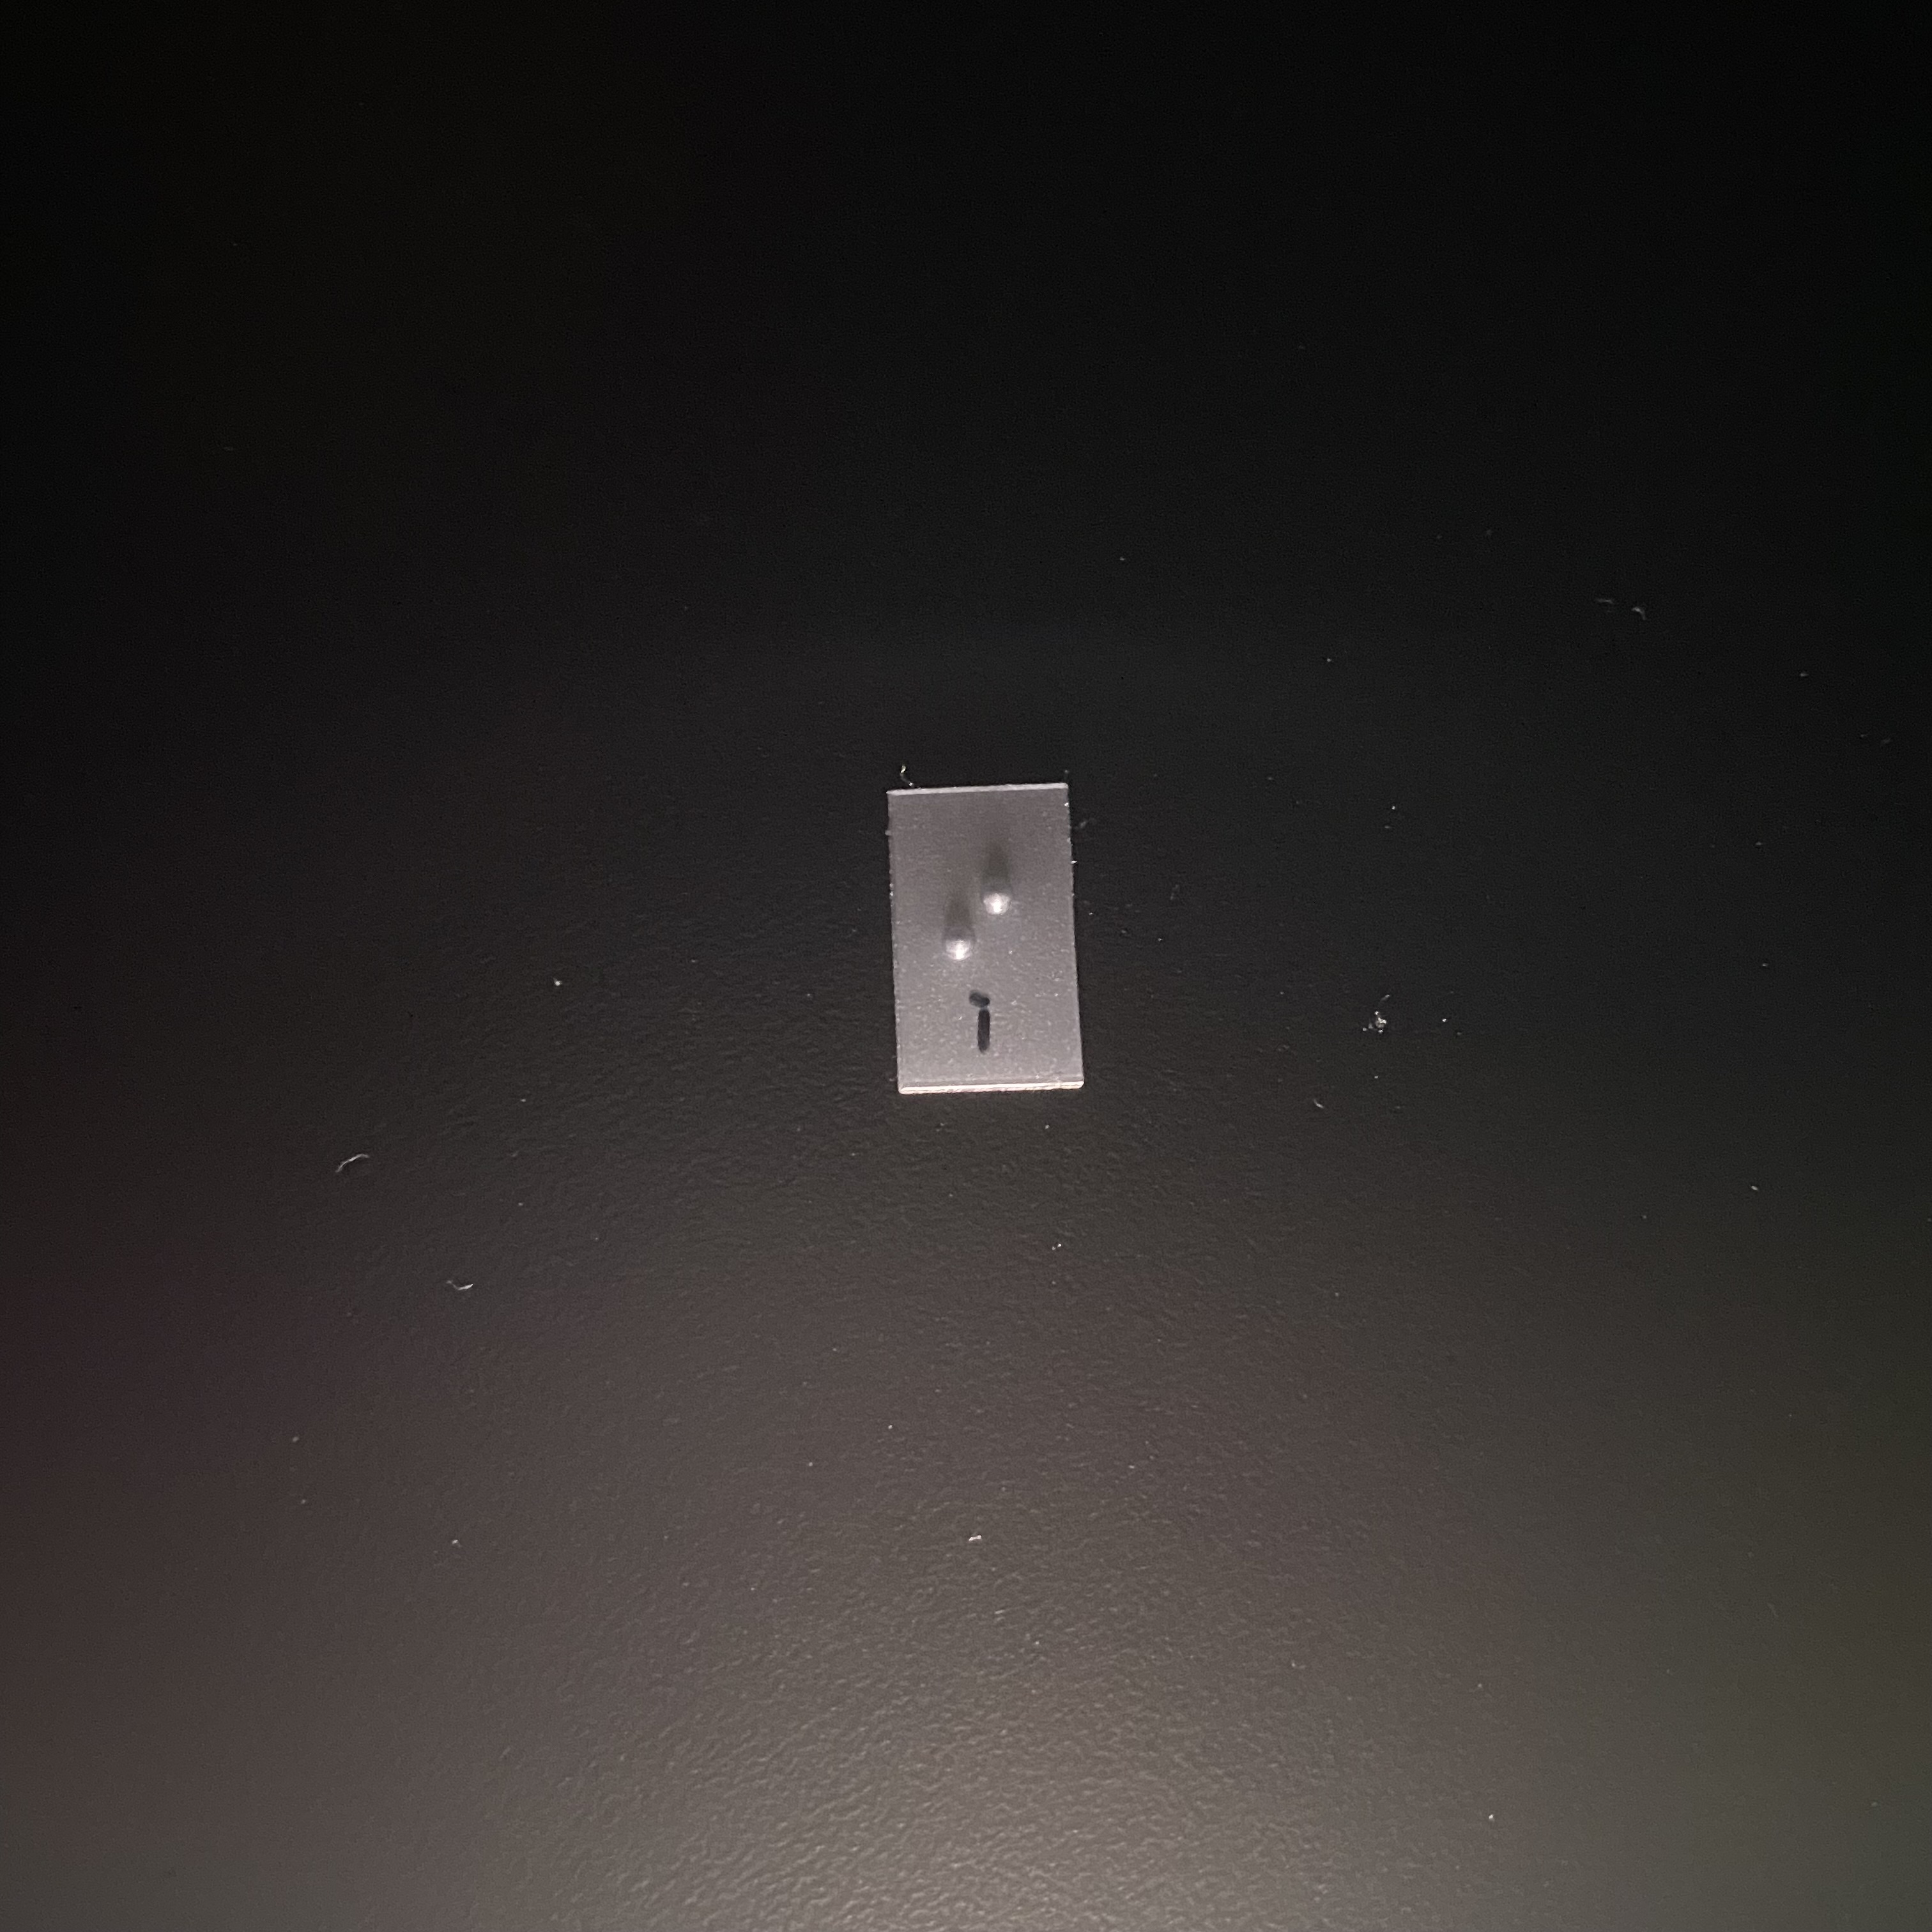i: (926, 848, 1029, 1029)
